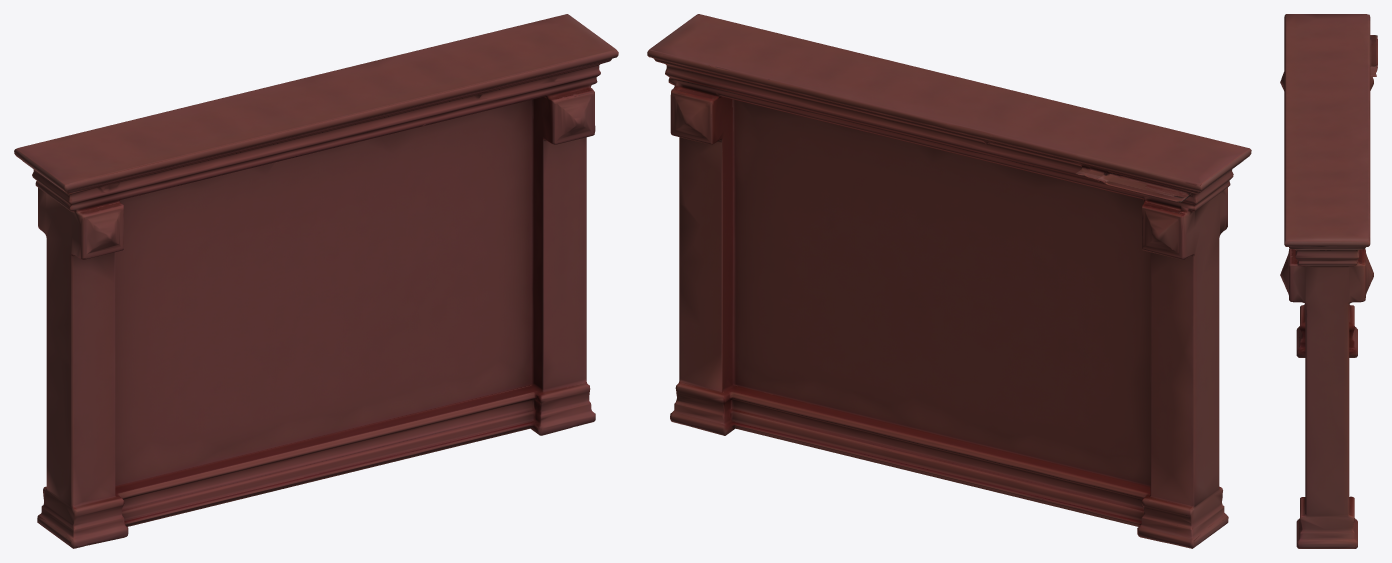
Rendered from Interior_Wall.fbx.
3 renders of one model, left to right at view 1: azimuth 30°, elevation 25°; view 2: azimuth 150°, elevation 25°; view 3: azimuth 270°, elevation 25°, orthographic. The views are drawn at different scales.
Visible parts, largest first — view 1: Mesh_0; view 2: Mesh_0; view 3: Mesh_0.
Part boxes in pixels (x1=…): Mesh_0: x1=14, y1=14, x2=618, y2=548; Mesh_0: x1=647, y1=14, x2=1251, y2=548; Mesh_0: x1=1280, y1=14, x2=1377, y2=548.
Bounding box in the file's own units: 192 × 34.83 × 124.
1 material, 1 textured.
